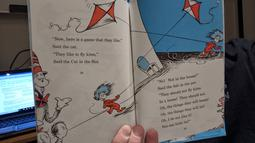text block: (153, 72, 211, 130), (48, 33, 123, 68)
